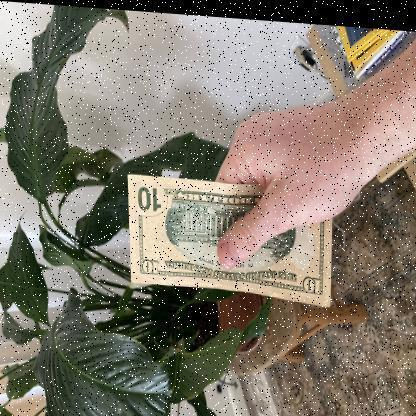ten-back: (126, 166, 332, 301)
